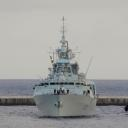Fragata: (33, 13, 100, 121)
